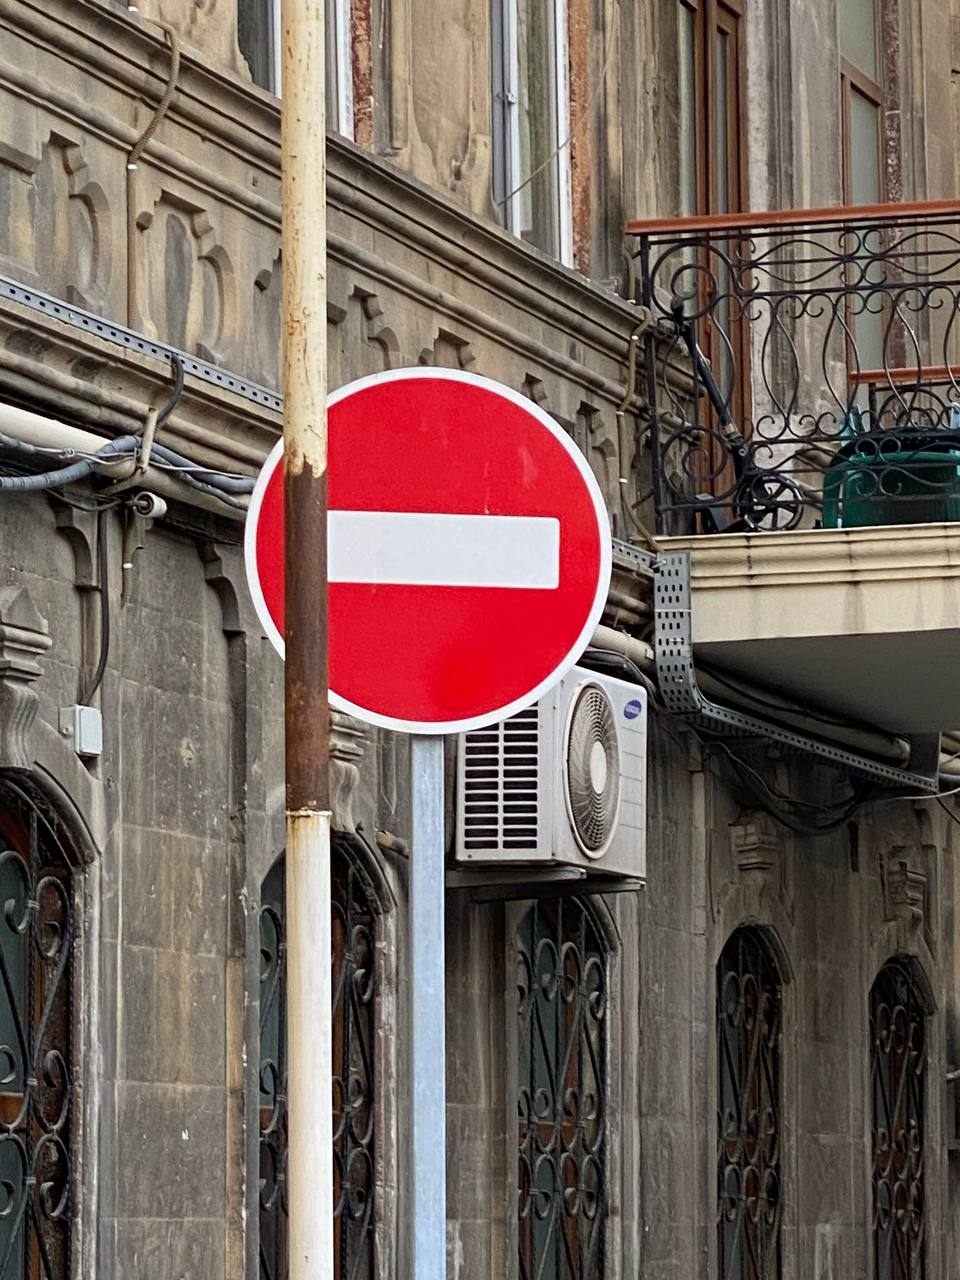No Entry: (243, 368, 614, 736)
